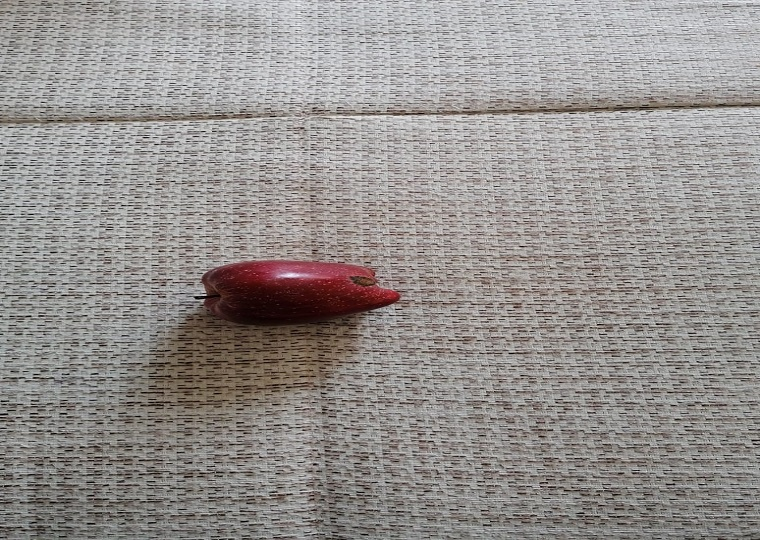elma: (193, 258, 403, 327)
